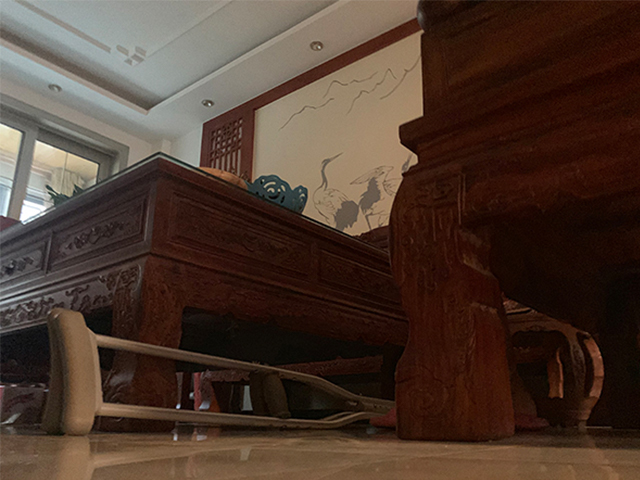sofa: (385, 1, 640, 447)
table: (1, 151, 411, 433)
